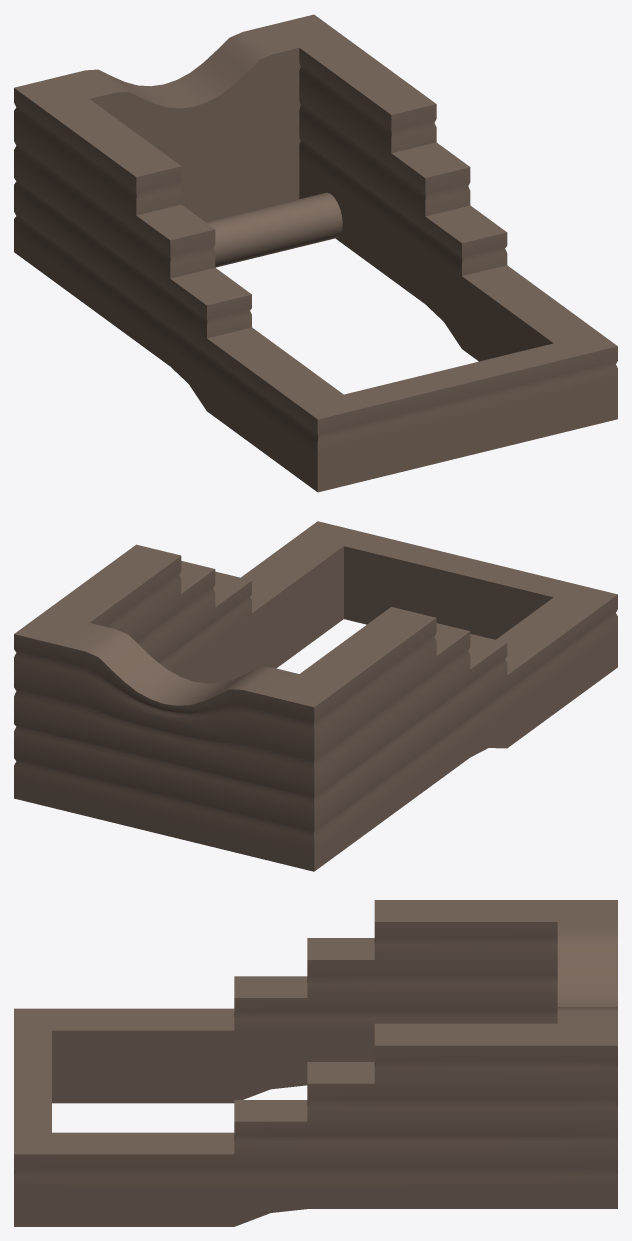
The model's file is Cannon_WoodBase.fbx.
3 views of the same model, one above another, from view 1: azimuth 30°, elevation 25°; view 2: azimuth 150°, elevation 25°; view 3: azimuth 270°, elevation 25° (orthographic).
Visible parts, largest first — view 1: Wood_Base, Wood_Bar1; view 2: Wood_Base; view 3: Wood_Base.
Part boxes in pixels (x1,y1,x2,y2): Wood_Base: [14, 14, 617, 492]; Wood_Bar1: [206, 192, 342, 267]; Wood_Base: [14, 521, 617, 871]; Wood_Base: [14, 900, 617, 1226].
Bounding box in the file's own units: 43.97 × 25.53 × 77.06.
